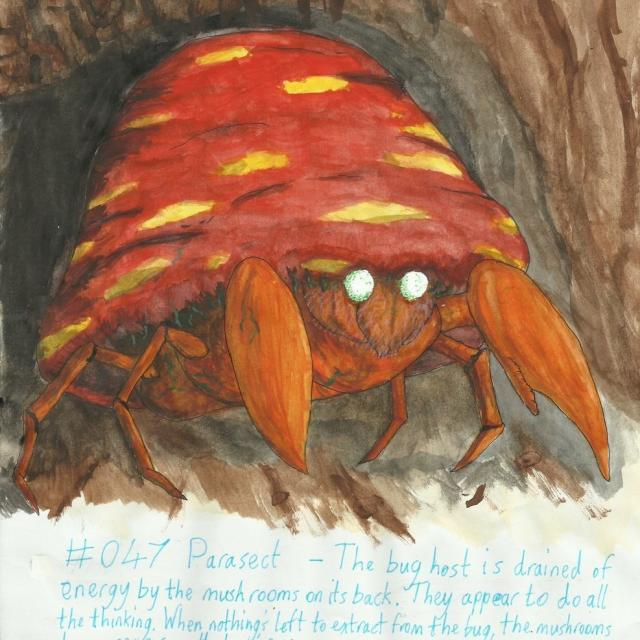Parasect: (77, 35, 544, 479)
